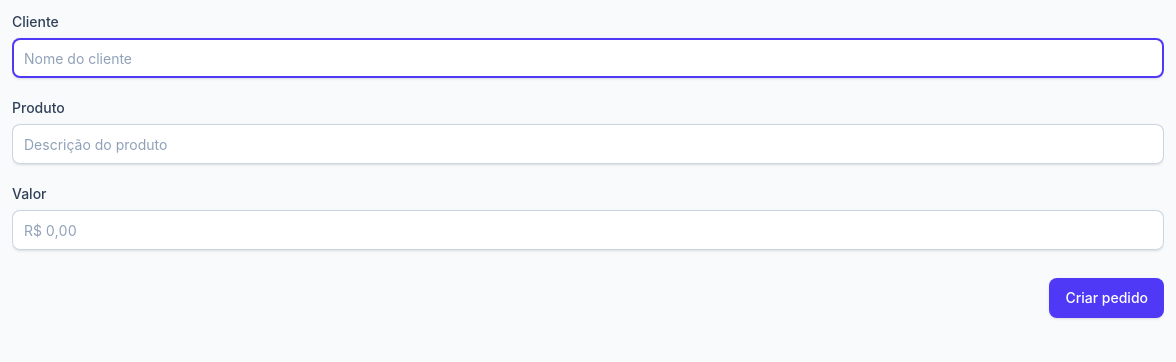
Test: OrderForm › mostra erros de validação retornados pela API nos campos
This screenshot has width=1176, height=362.
Type "Fulano" into the field labelled "Cliente" at [588, 58], box [12,38,1164,78]
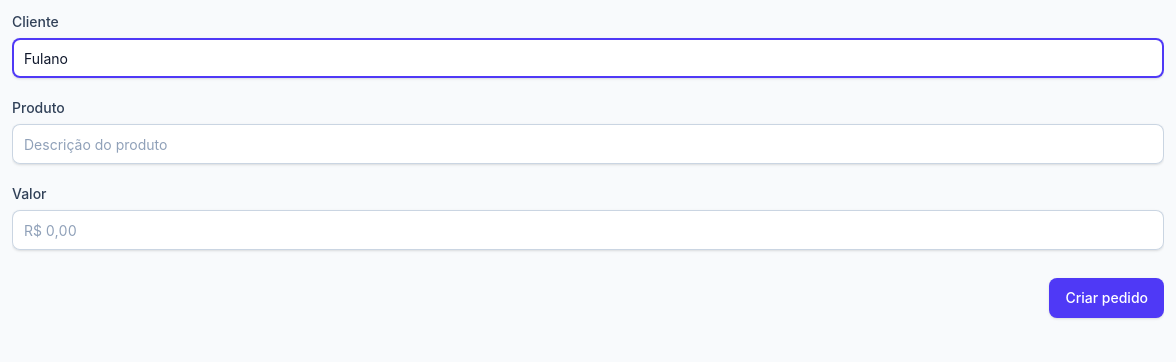
Type "Mouse" into the field labelled "Produto" at [588, 144], box [12,124,1164,164]
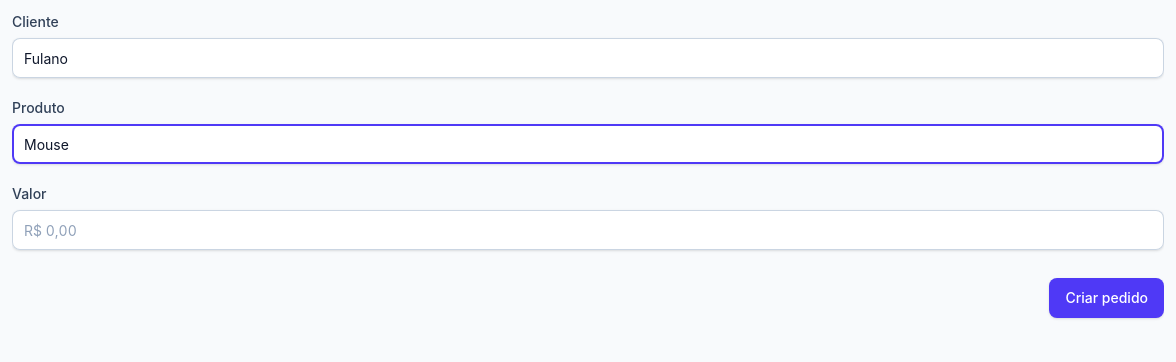
Type "1000" into the field labelled "Valor" at [588, 230], box [12,210,1164,250]
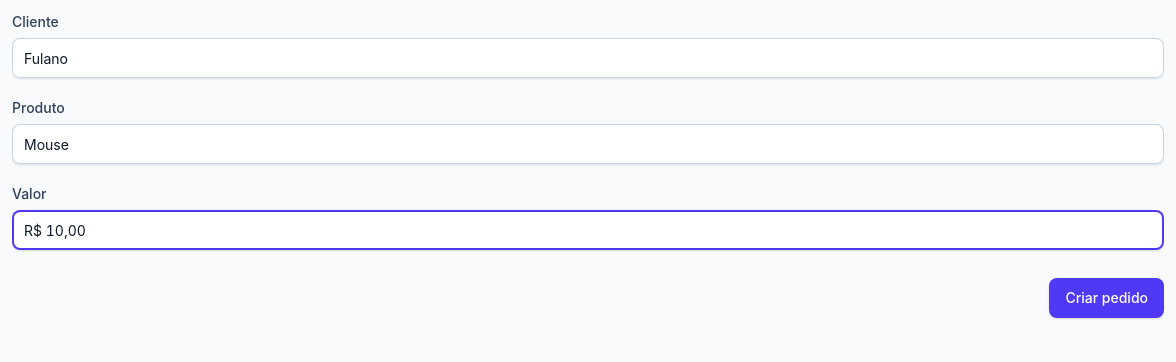
Click the button "Criar pedido" at [1107, 298], box [1049,278,1164,318]
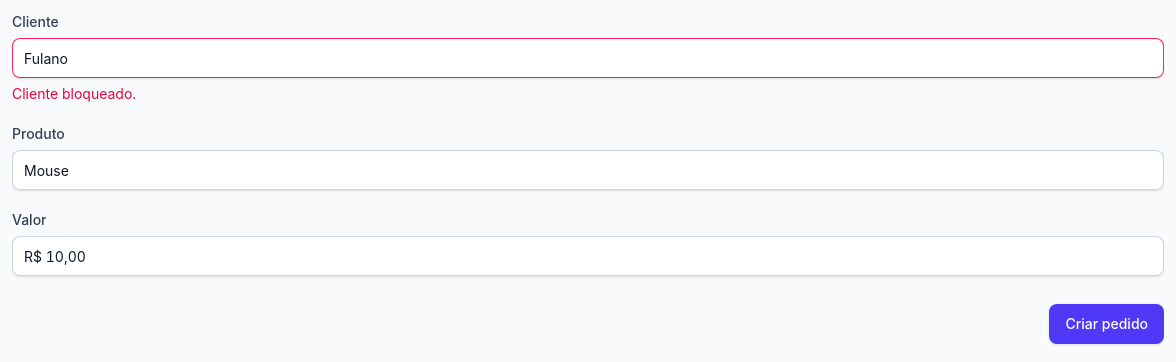
Check: the text "Cliente bloqueado." is shown, box [12,85,136,102]
